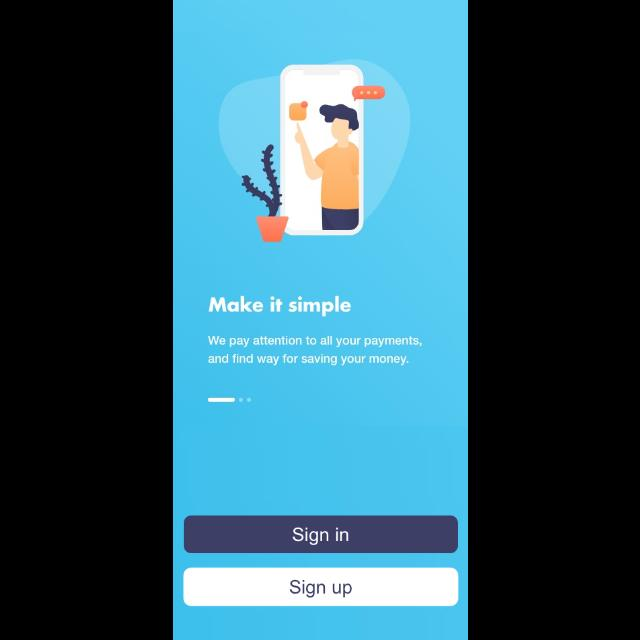image: (218, 59, 410, 243)
pageindicator: (207, 397, 251, 403)
text: (207, 336, 421, 366), (208, 296, 350, 318)
textbutton: (182, 514, 458, 554), (182, 568, 458, 606)
